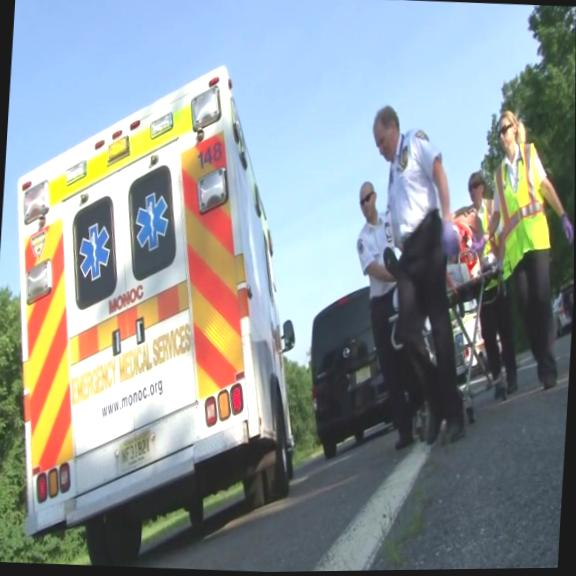safety_vest: (485, 135, 558, 281), (465, 195, 498, 263)
